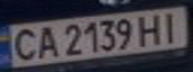1: (81, 18, 100, 54)
2: (60, 20, 84, 56)
3: (97, 17, 118, 52)
9: (112, 16, 139, 50)
A: (33, 24, 60, 61)
C: (6, 26, 39, 62)
H: (136, 11, 166, 46)
I: (154, 9, 187, 44)
